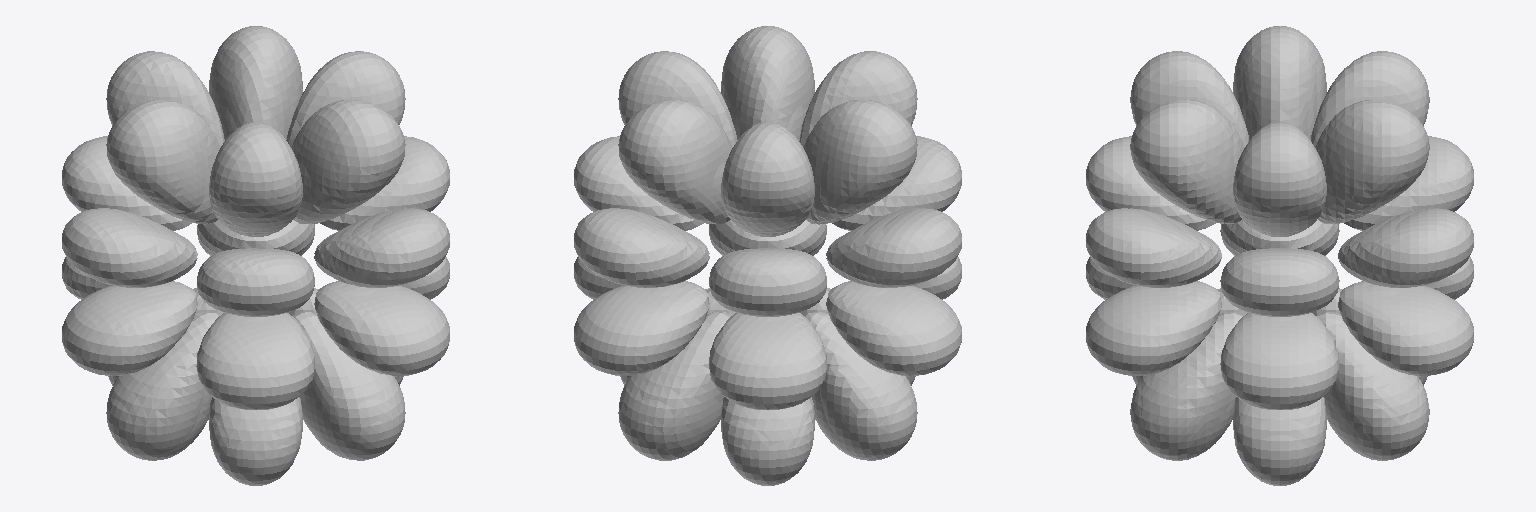
The model's file is orb_n=7_ l=6 _m=3.obj.
The picture shows the model from 3 angles: view 1: azimuth 30°, elevation 25°; view 2: azimuth 150°, elevation 25°; view 3: azimuth 270°, elevation 25°; orthographic projection.
Parts seen in each view (by area): view 1: orb_n=7__l=6__m=3; view 2: orb_n=7__l=6__m=3; view 3: orb_n=7__l=6__m=3.
Part boxes in pixels (bbox=[...]): orb_n=7__l=6__m=3: bbox=[62, 26, 449, 485]; orb_n=7__l=6__m=3: bbox=[574, 26, 961, 485]; orb_n=7__l=6__m=3: bbox=[1086, 26, 1473, 485].
Bounding box in the file's own units: 154 × 140 × 140.